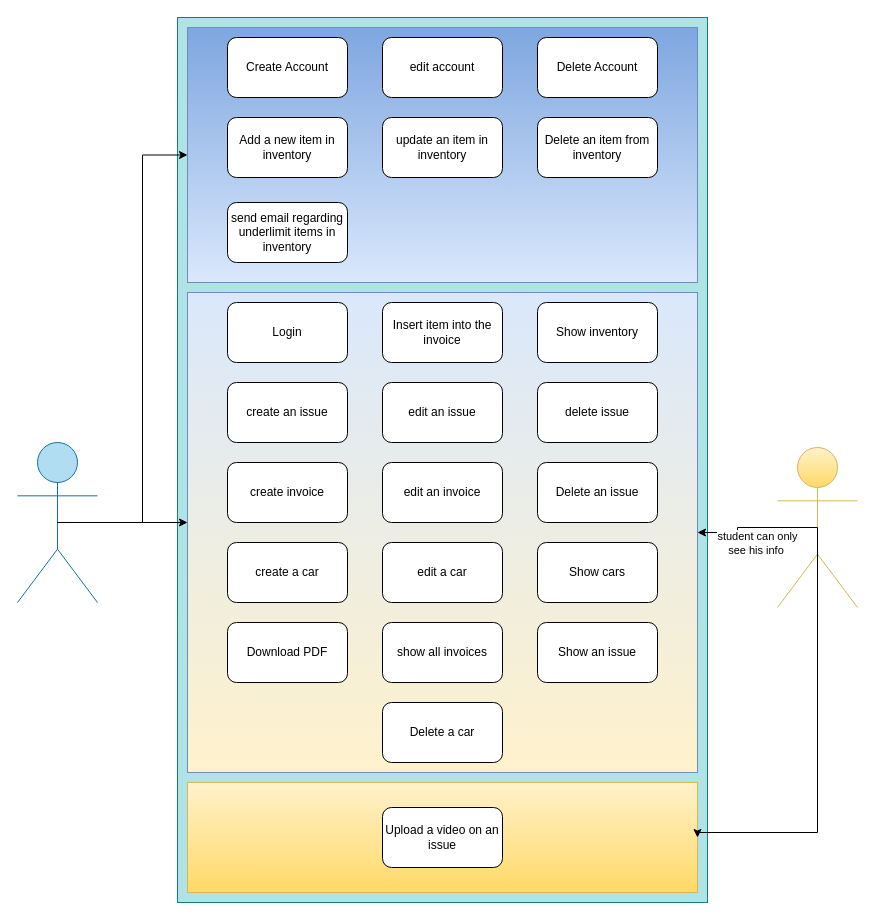
The diagram is 875 pixels wide and 920 high, and some of its shapes have lost their labels. The box of each missing label's shape, as (x1, y1, x2, y2) in pixels:
Instructor: (16, 442, 98, 602)
Students: (776, 446, 858, 608)
